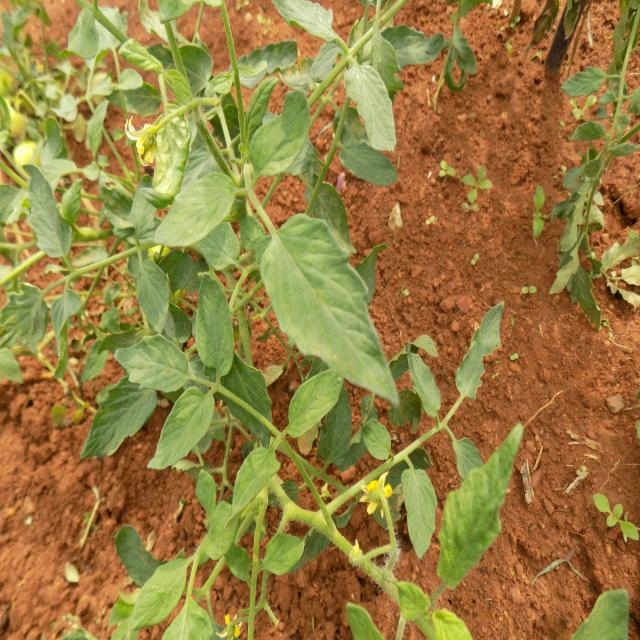tomato_early blight: (258, 221, 406, 409), (434, 416, 522, 592), (80, 358, 155, 462), (150, 168, 235, 248), (146, 384, 210, 472), (21, 159, 73, 267), (114, 332, 200, 396), (347, 63, 402, 157), (192, 272, 232, 384)
